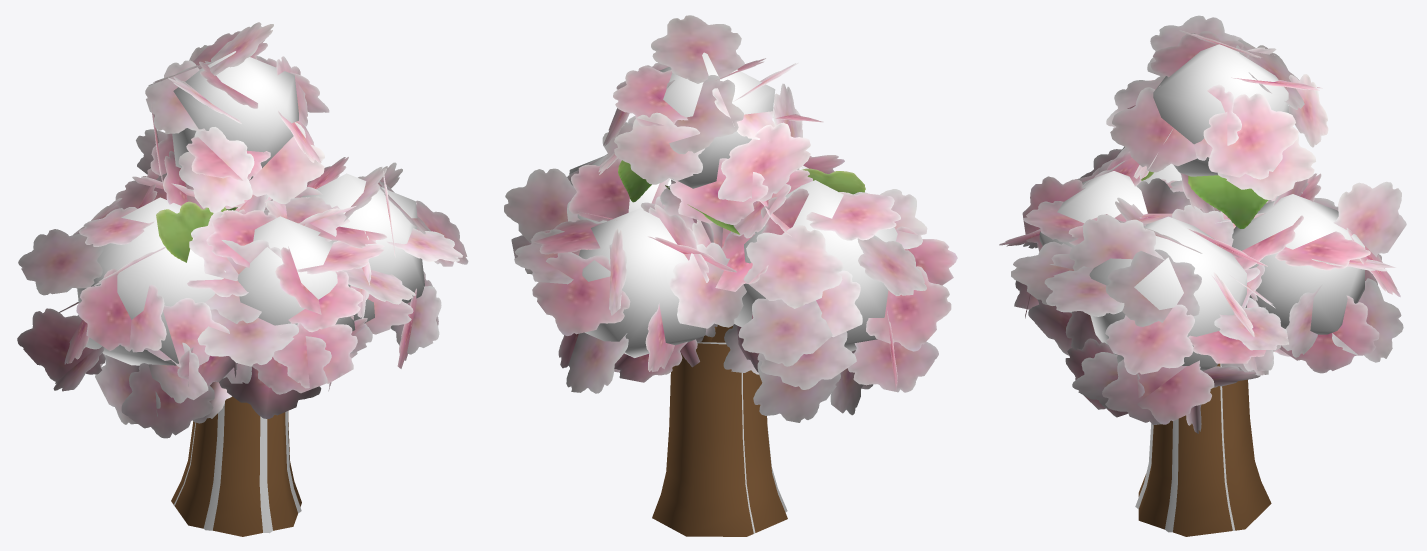
File: tree-round-blossom.lod1.glb
3 views of the same model, side by side, from view 1: azimuth 30°, elevation 25°; view 2: azimuth 150°, elevation 25°; view 3: azimuth 270°, elevation 25° (orthographic). The views are drawn at different scales.
Visible parts, largest first — view 1: Crown, Hull, Trunk, Stem; view 2: Crown, Hull, Trunk, Stem; view 3: Crown, Hull, Trunk, Stem.
Part boxes in pixels (box(x1,y1,x2,y2)): Crown: box(17, 22, 468, 438); Hull: box(77, 51, 424, 365); Trunk: box(171, 396, 301, 536); Stem: box(173, 403, 301, 533); Crown: box(504, 15, 957, 422); Hull: box(569, 52, 897, 357); Trunk: box(652, 325, 787, 536); Stem: box(697, 342, 787, 533); Crown: box(999, 15, 1406, 433); Hull: box(1039, 44, 1364, 370); Trunk: box(1138, 363, 1271, 536); Stem: box(1135, 363, 1235, 532).
Bounding box in the file's own units: 2.54 × 2.78 × 2.16.
4 materials, 1 textured.
